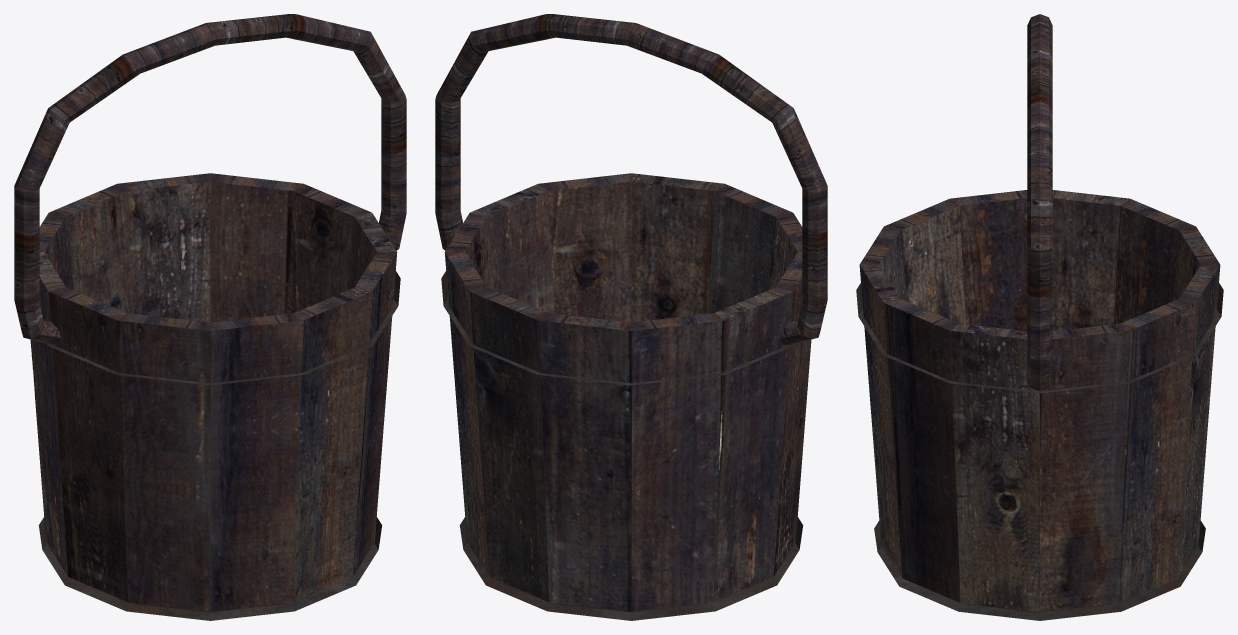
Rendered from bucket_holding.fbx.
3 renders of one model, left to right at view 1: azimuth 30°, elevation 25°; view 2: azimuth 150°, elevation 25°; view 3: azimuth 270°, elevation 25°, orthographic. The views are drawn at different scales.
Visible parts, largest first — view 1: Bucket1_2; view 2: Bucket1_2; view 3: Bucket1_2.
Part boxes in pixels (x1,y1,x2,y2): Bucket1_2: [14, 14, 406, 620]; Bucket1_2: [435, 14, 827, 620]; Bucket1_2: [856, 14, 1223, 620].
Size of the model in its own units: 0.4146 by 0.5357 by 0.3506.
